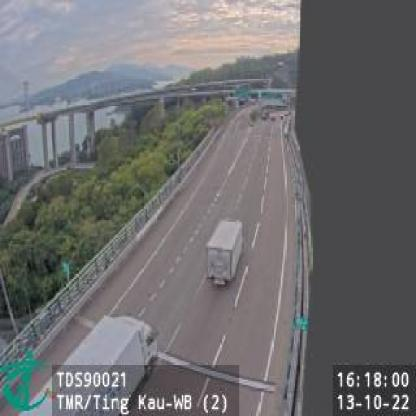Truck: (46, 312, 159, 416), (204, 213, 246, 288)
